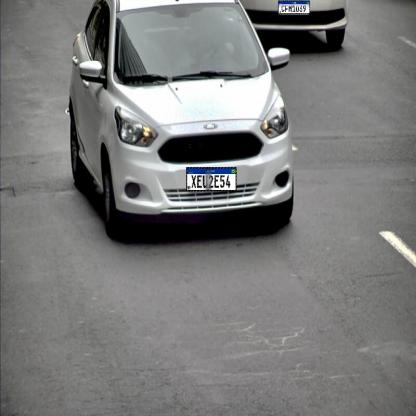PlacaM: (186, 167, 237, 191), (278, 1, 310, 14)
